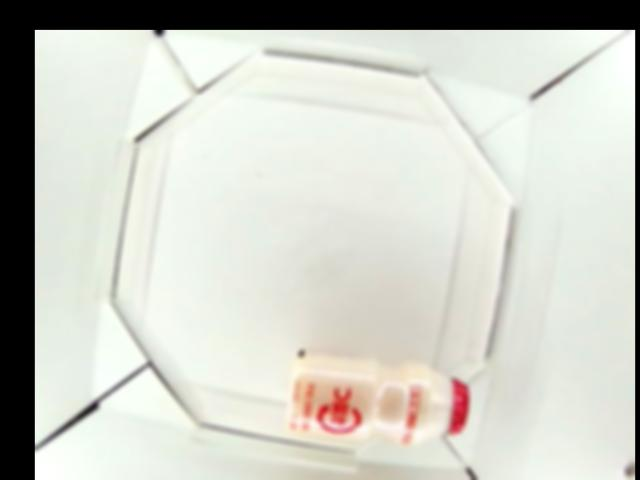Bottle: (283, 351, 474, 444)
